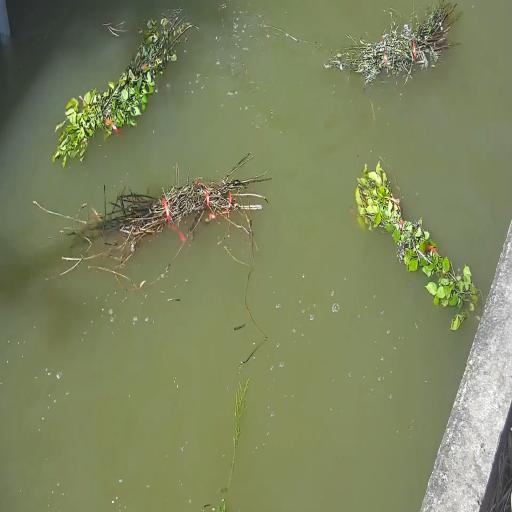twig: (344, 151, 476, 324), (90, 167, 256, 293), (44, 23, 192, 160), (331, 0, 457, 89)
